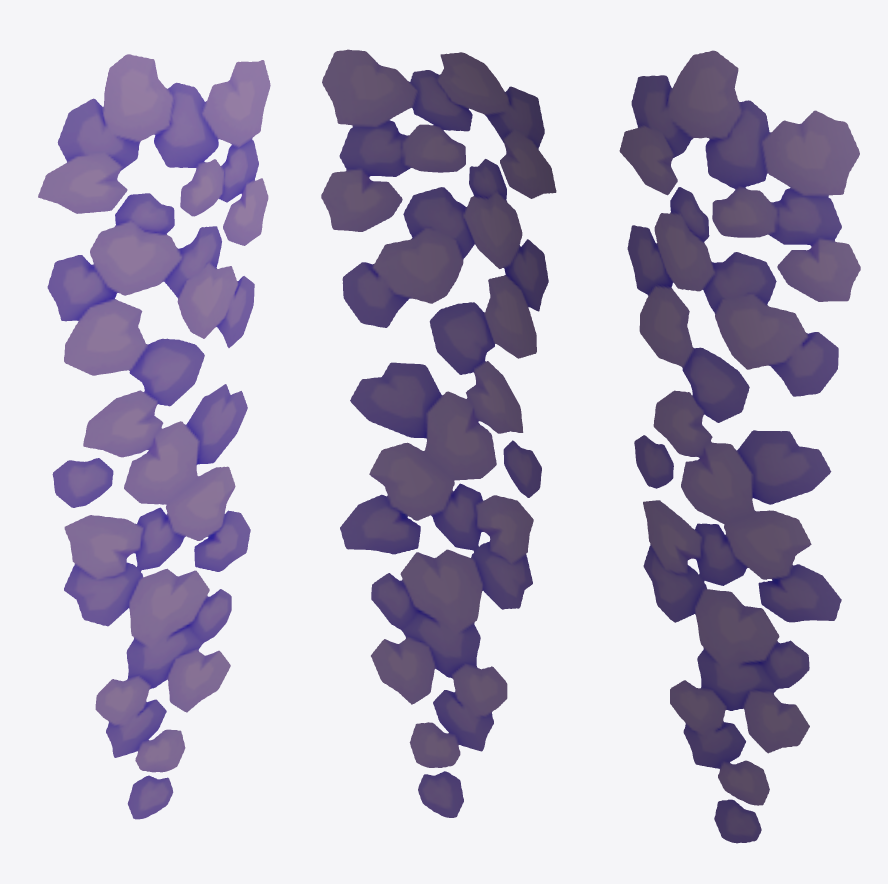
File: SM_Env_Flowers_Line_03.fbx
The picture shows the model from 3 angles, left to right: view 1: azimuth 30°, elevation 25°; view 2: azimuth 150°, elevation 25°; view 3: azimuth 330°, elevation 25°; orthographic projection. The views are drawn at different scales.
Visible parts, largest first — view 1: SM_Env_Flowers_Line_03; view 2: SM_Env_Flowers_Line_03; view 3: SM_Env_Flowers_Line_03.
Boxes of the visible parts, left/top/right/bottom form: SM_Env_Flowers_Line_03: left=38, top=54, right=270, bottom=819; SM_Env_Flowers_Line_03: left=321, top=49, right=556, bottom=817; SM_Env_Flowers_Line_03: left=619, top=50, right=860, bottom=843.
Bounding box in the file's own units: 32.81 × 95.37 × 6.76.
